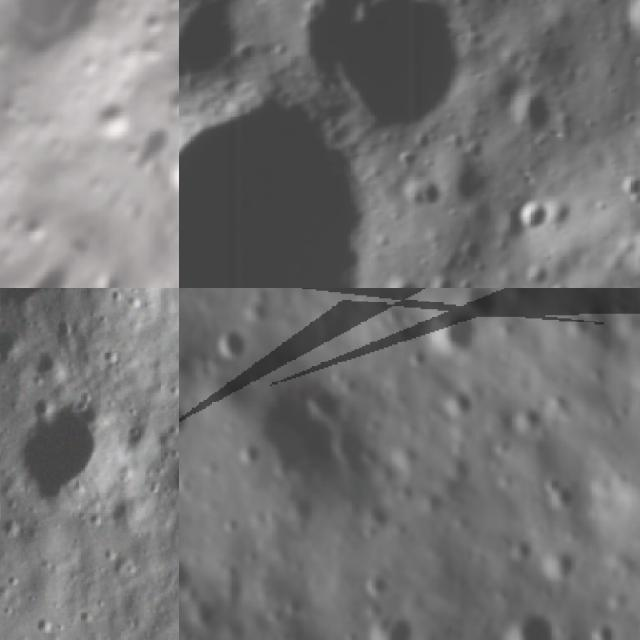crater: (179, 85, 384, 288), (319, 0, 487, 132), (6, 398, 120, 512), (0, 0, 110, 72), (179, 0, 238, 86), (4, 231, 79, 288), (488, 598, 566, 640), (122, 110, 175, 171), (503, 88, 556, 145), (509, 196, 555, 248), (199, 319, 253, 361), (360, 604, 417, 640), (436, 308, 482, 352), (611, 219, 640, 288), (398, 178, 448, 218), (622, 0, 640, 64), (616, 174, 640, 212), (161, 461, 179, 504), (424, 271, 461, 288), (179, 399, 189, 435), (256, 0, 292, 9)
